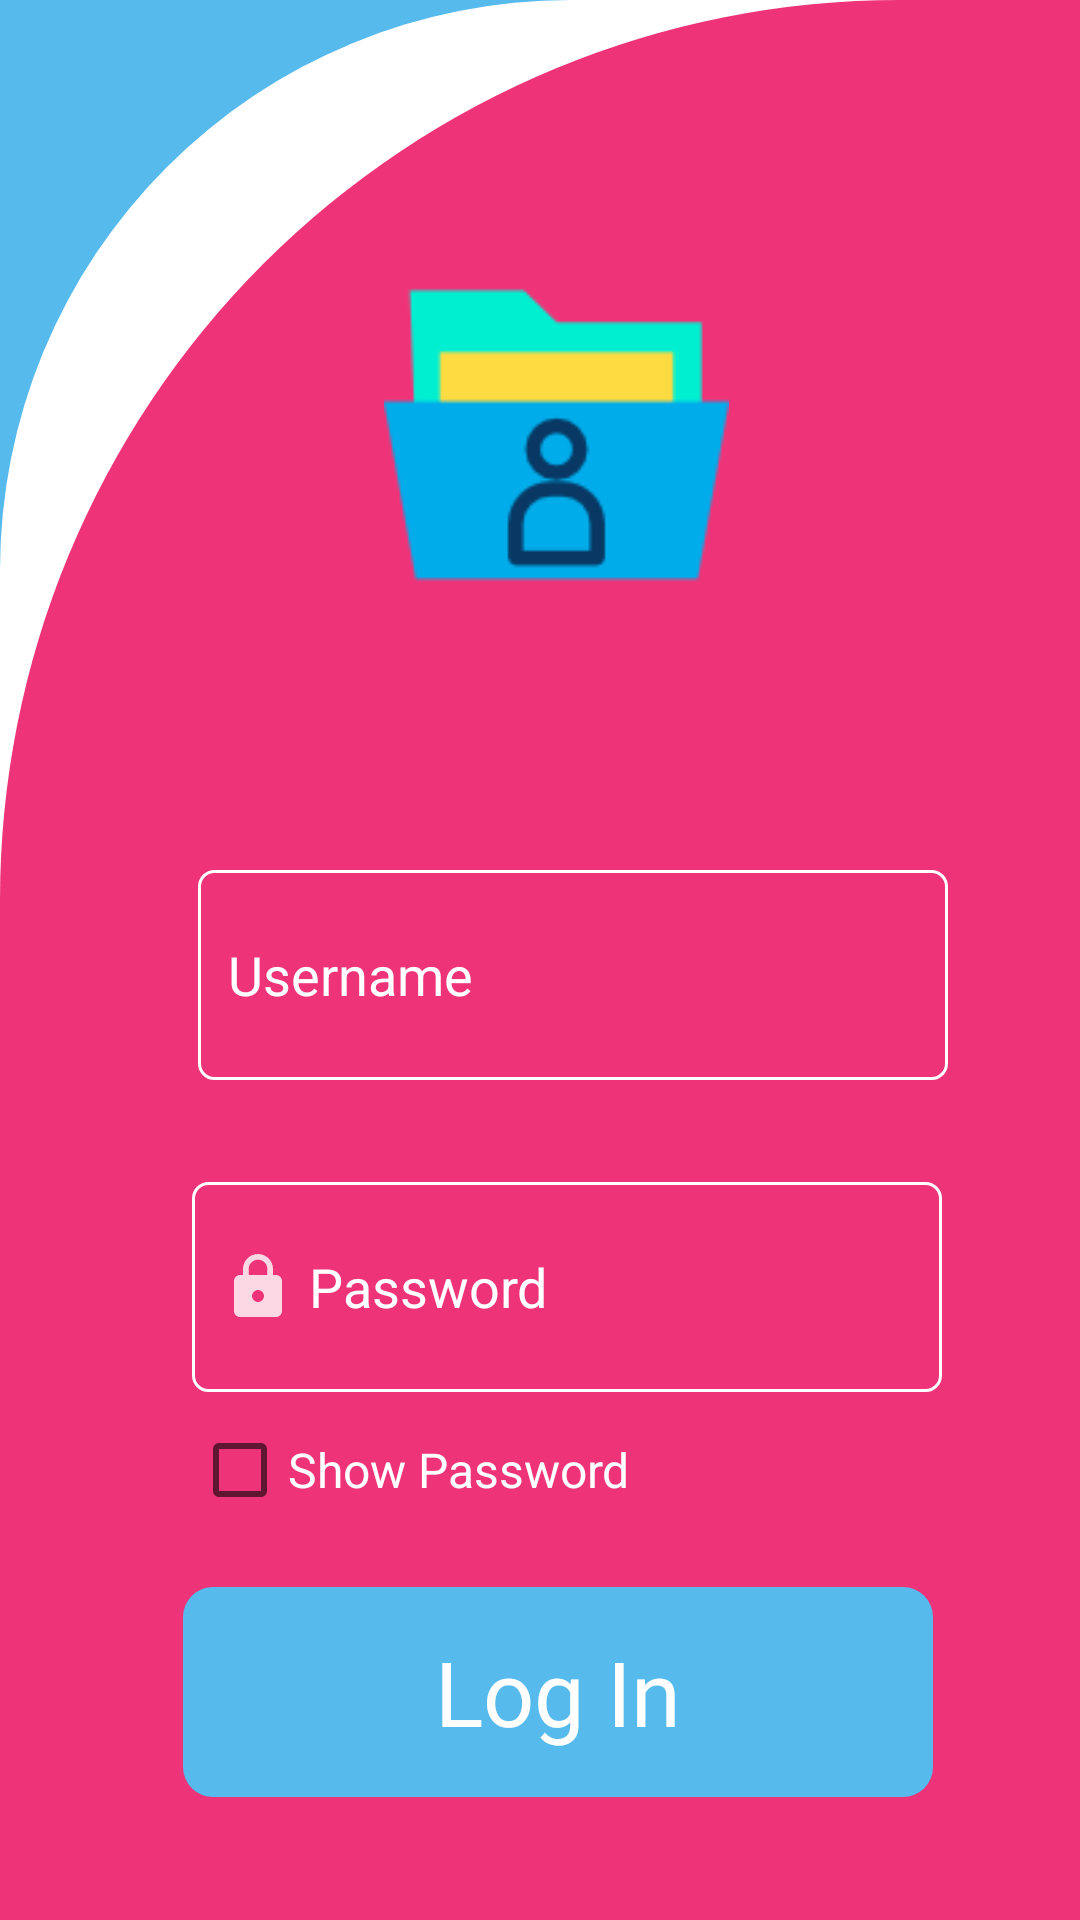

Icon click points for this 1080 × 1920 phone screenshot, format [x,y]:
admin: [556,435]
